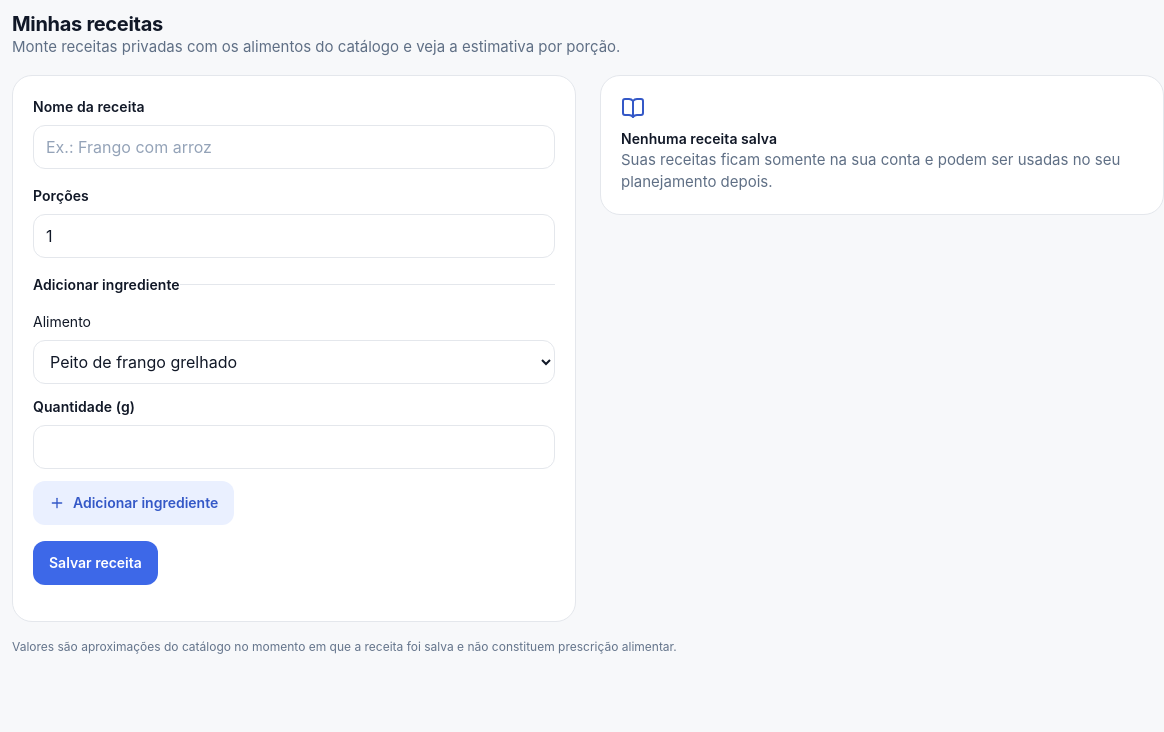
it: RecipePanel › does not submit a recipe without an ingredient
Click the button "Salvar receita": (95, 562) [33, 540, 158, 584]
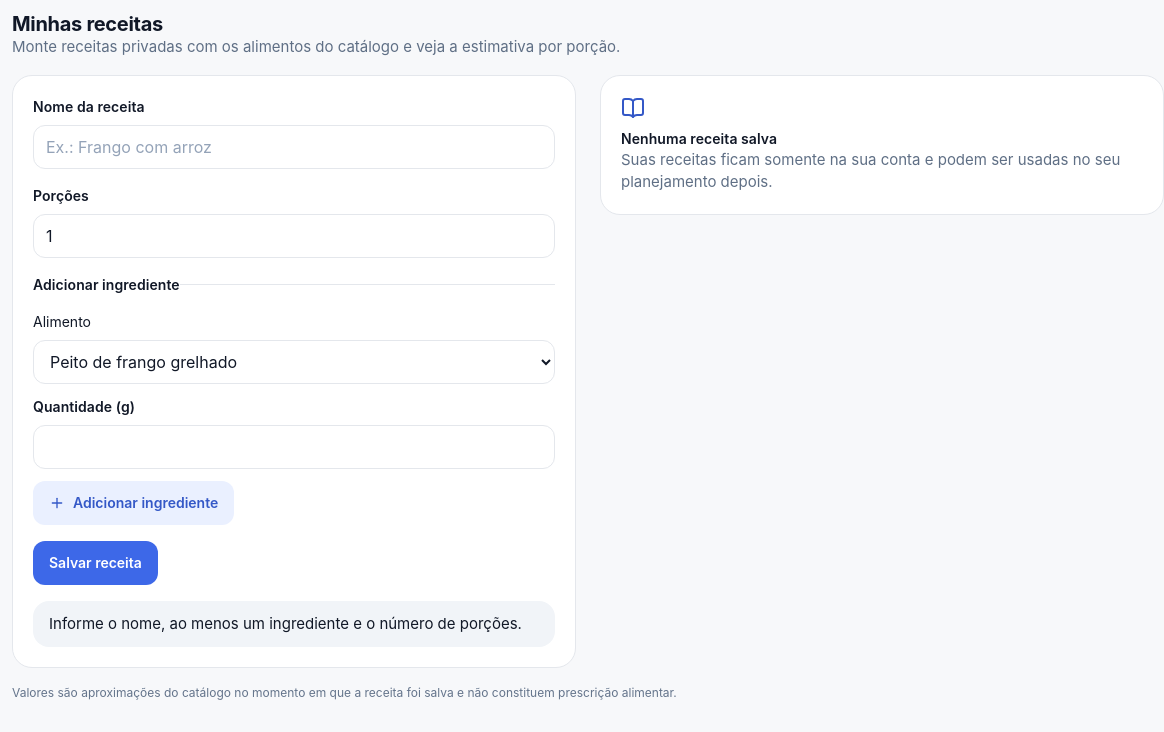
Expected: the text "Informe o nome, ao menos um ingrediente e o número de porções." is shown, [33, 600, 555, 647]
